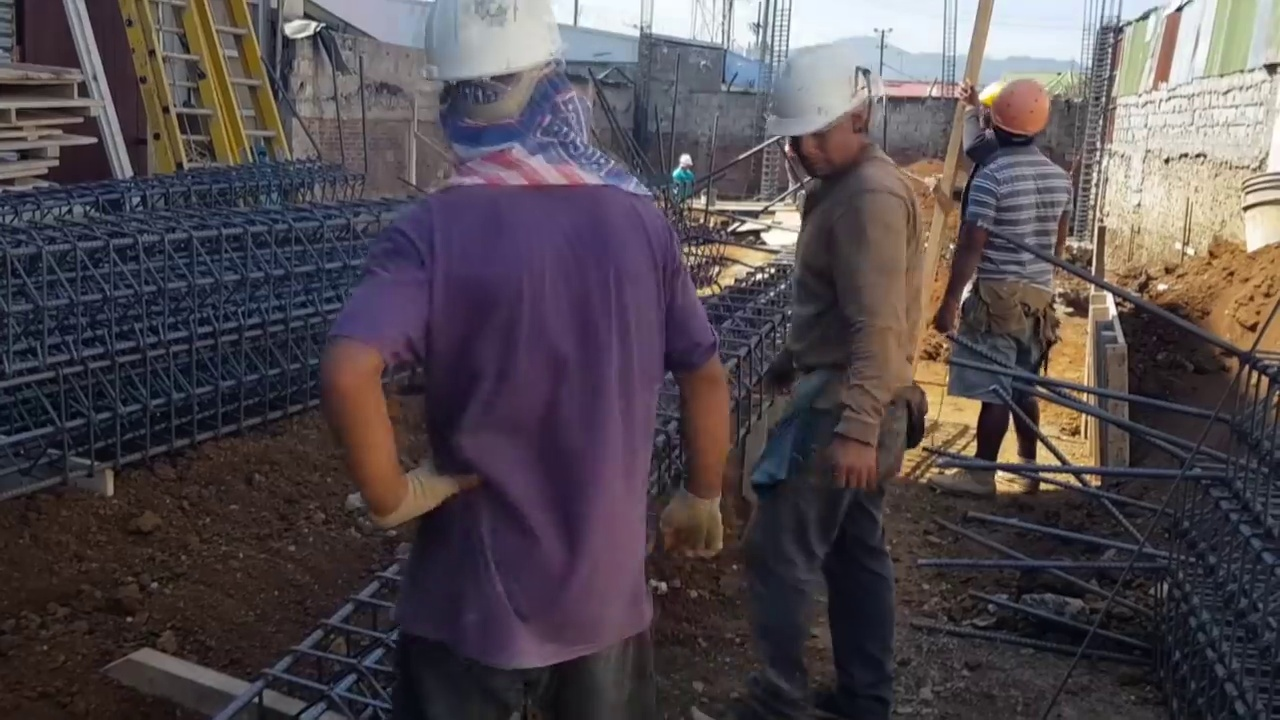helmet: (427, 11, 572, 99), (765, 41, 882, 141), (984, 78, 1058, 135), (676, 154, 695, 168)
helmet-on: (431, 0, 569, 154), (766, 35, 888, 186), (978, 65, 1060, 162), (677, 154, 696, 180)
person: (315, 8, 708, 715), (747, 33, 941, 720), (954, 57, 1068, 484), (669, 157, 694, 211)
